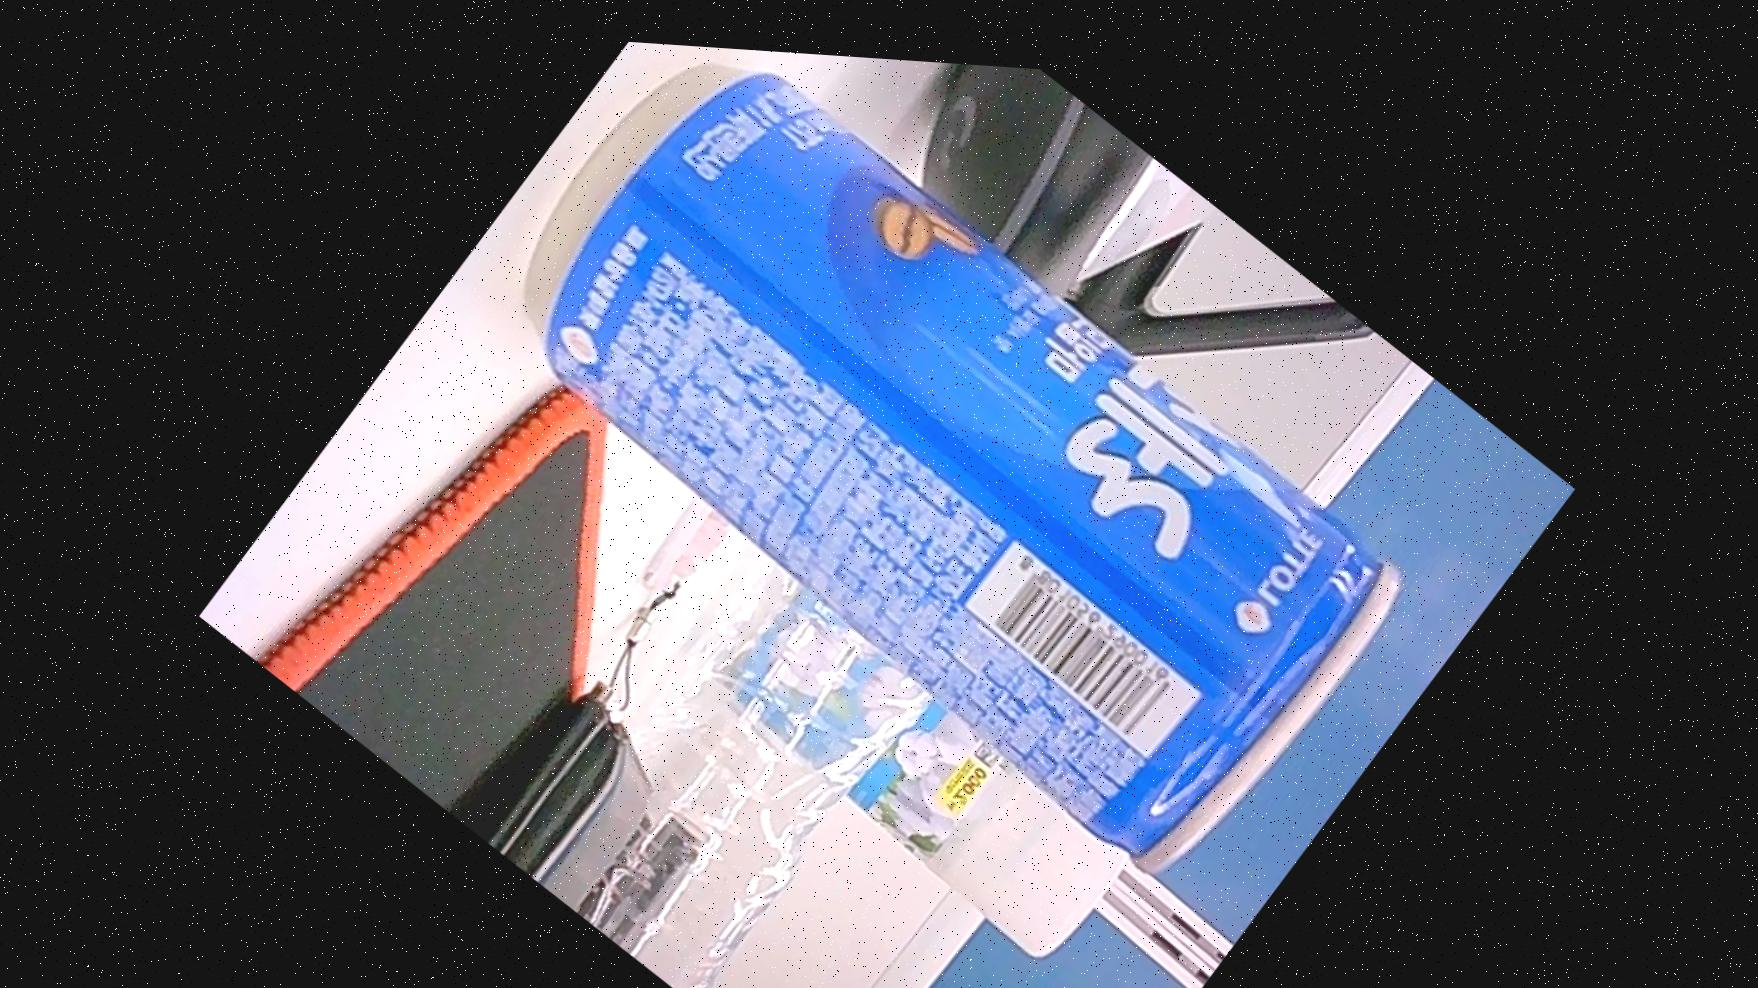letsbe: (450, 24, 1422, 899)
